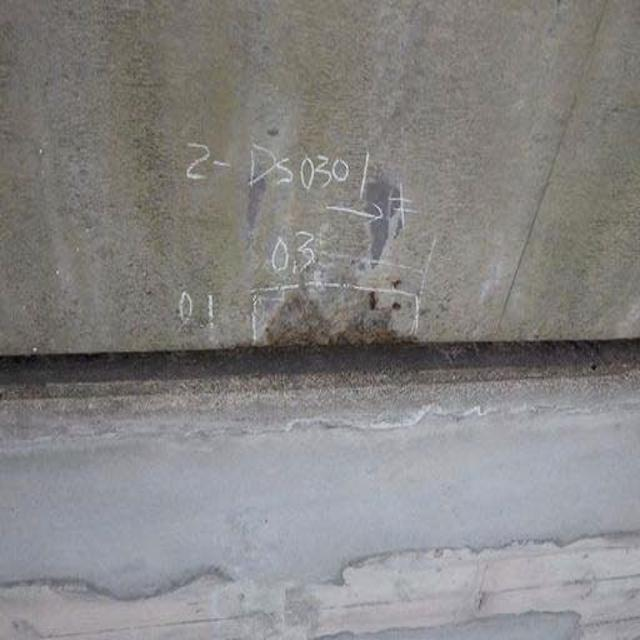spalling: (230, 249, 427, 360)
